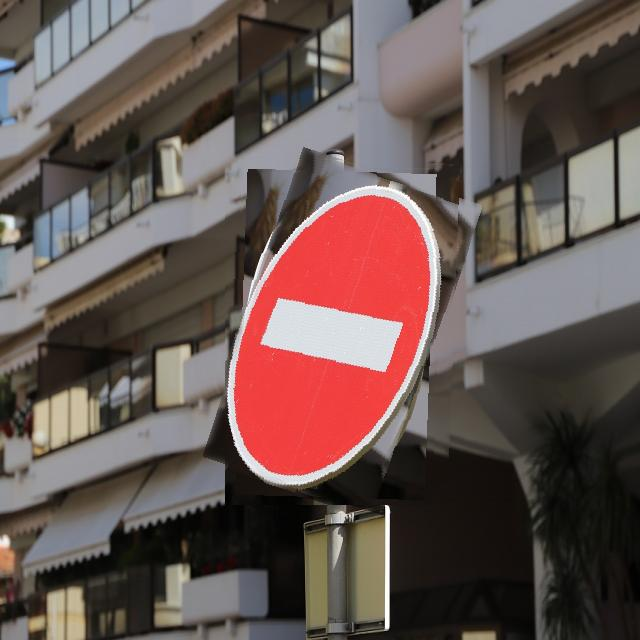no entry: (225, 157, 460, 505)
